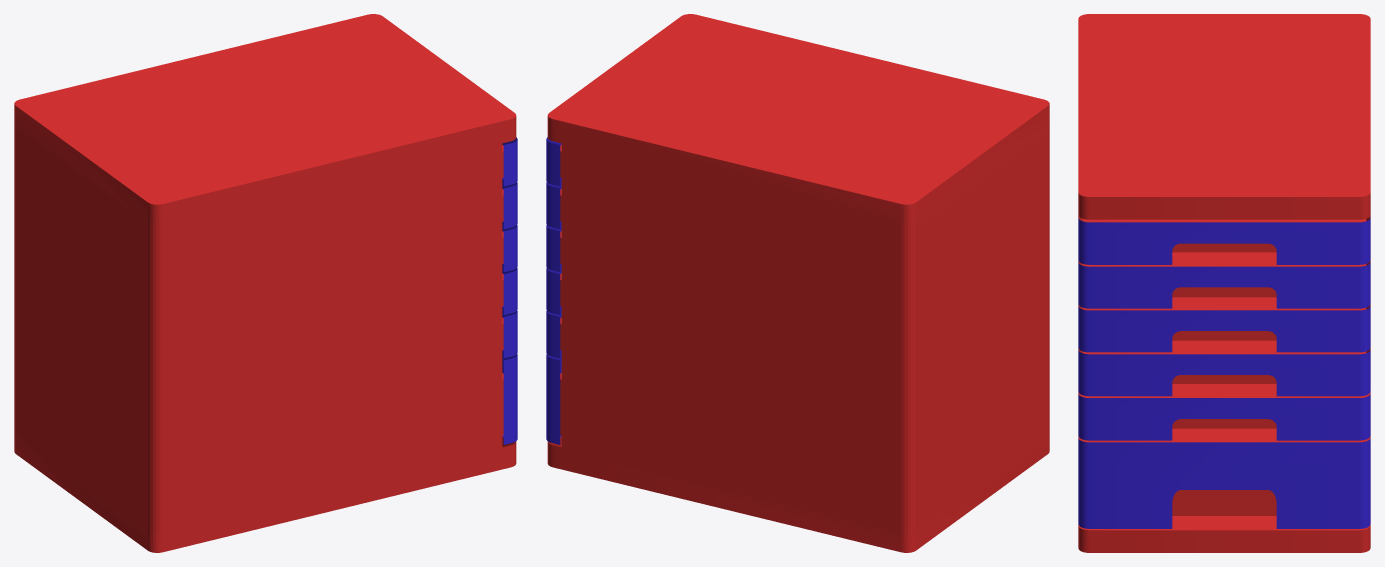
File: PH_FileHolder.fbx
The picture shows the model from 3 angles, left to right: view 1: azimuth 30°, elevation 25°; view 2: azimuth 150°, elevation 25°; view 3: azimuth 270°, elevation 25°; orthographic projection. The views are drawn at different scales.
Visible parts, largest first — view 1: Cube.002, Cube.009, Cube.008, Cube.005, Cube.004, Cube.007, Cube.006; view 2: Cube.002, Cube.009, Cube.008, Cube.005, Cube.004, Cube.007, Cube.006; view 3: Cube.002, Cube.009, Cube.004, Cube.005, Cube.008, Cube.006, Cube.007, Cube.016, Cube.012, Cube.014, Cube.013, Cube.015 (+1 smaller).
Boxes of the visible parts, left/top/right/bottom form: Cube.002: left=14, top=14, right=516, bottom=552; Cube.009: left=502, top=350, right=517, bottom=444; Cube.008: left=502, top=307, right=517, bottom=358; Cube.005: left=502, top=178, right=517, bottom=229; Cube.004: left=502, top=137, right=517, bottom=186; Cube.007: left=502, top=264, right=517, bottom=314; Cube.006: left=502, top=221, right=517, bottom=272; Cube.002: left=547, top=14, right=1049, bottom=552; Cube.009: left=546, top=350, right=561, bottom=444; Cube.008: left=546, top=307, right=561, bottom=358; Cube.005: left=546, top=178, right=561, bottom=229; Cube.004: left=546, top=137, right=561, bottom=186; Cube.007: left=546, top=264, right=561, bottom=314; Cube.006: left=546, top=221, right=561, bottom=272; Cube.002: left=1078, top=14, right=1370, bottom=552; Cube.009: left=1078, top=438, right=1370, bottom=528; Cube.004: left=1078, top=218, right=1370, bottom=264; Cube.005: left=1078, top=262, right=1370, bottom=308; Cube.008: left=1078, top=393, right=1370, bottom=440; Cube.006: left=1078, top=306, right=1370, bottom=352; Cube.007: left=1078, top=350, right=1370, bottom=396; Cube.016: left=1082, top=428, right=1366, bottom=515; Cube.012: left=1082, top=252, right=1366, bottom=297; Cube.014: left=1082, top=340, right=1366, bottom=383; Cube.013: left=1082, top=297, right=1366, bottom=340; Cube.015: left=1082, top=384, right=1366, bottom=428.
Size of the model in its own units: 43.15 by 39 by 29.
